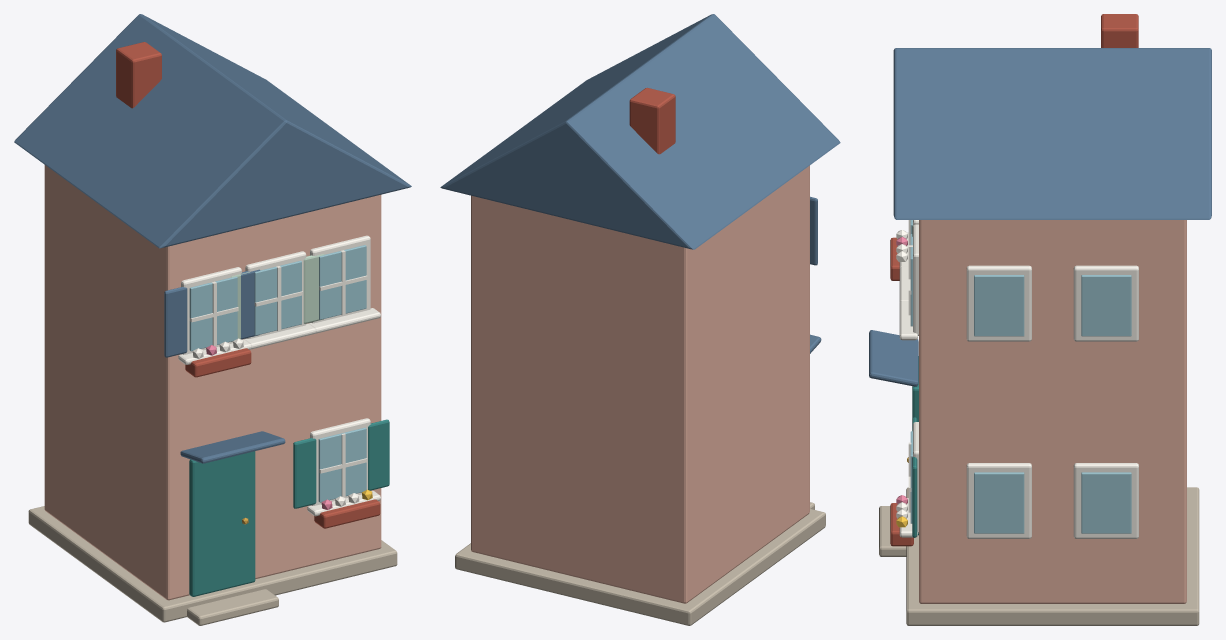
Rendered from house_b.glb.
3 views of the same model, side by side, from view 1: azimuth 30°, elevation 25°; view 2: azimuth 150°, elevation 25°; view 3: azimuth 270°, elevation 25° (orthographic). The views are drawn at different scales.
Visible parts, largest first — view 1: house_b; view 2: house_b; view 3: house_b.
Boxes of the visible parts, x1,y1,x2,y2 form: house_b: (14, 14, 411, 625); house_b: (440, 14, 840, 625); house_b: (869, 14, 1211, 625).
Size of the model in its own units: 3.77 by 6.87 by 4.1.
